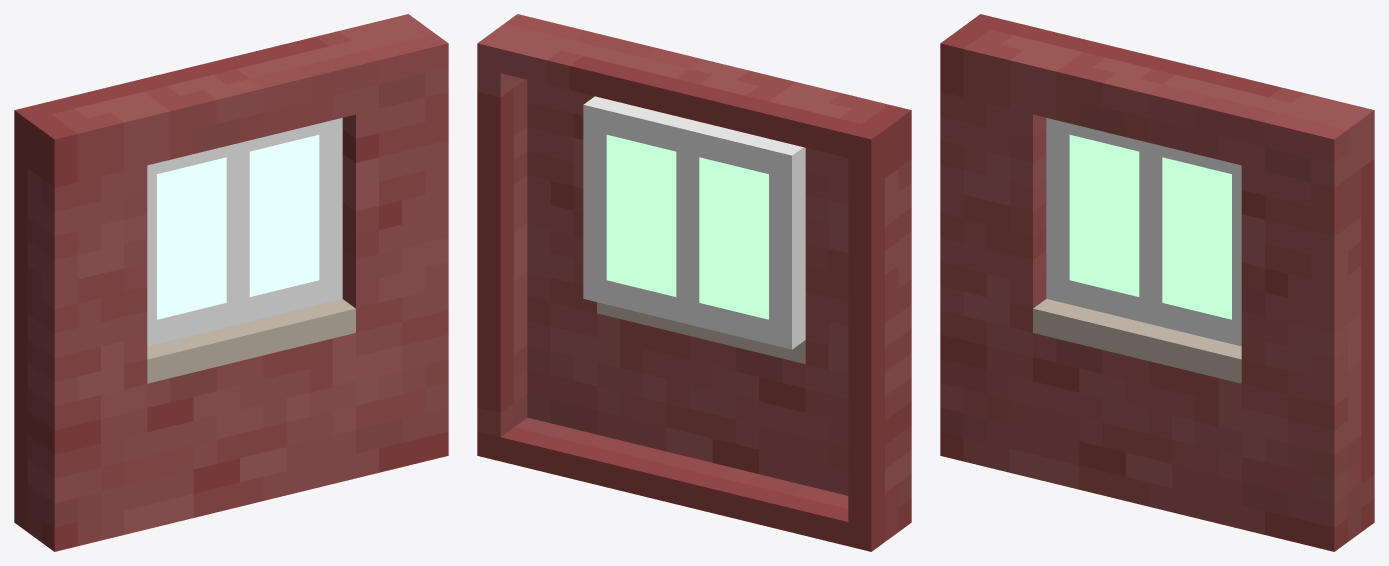
Rendered from palazzo7.glb.
3 views of the same model, side by side, from view 1: azimuth 30°, elevation 25°; view 2: azimuth 150°, elevation 25°; view 3: azimuth 330°, elevation 25° (orthographic).
Parts seen in each view (by area): view 1: Finestra.Piccola.Verticale; view 2: Finestra.Piccola.Verticale; view 3: Finestra.Piccola.Verticale.
Part boxes in pixels (x1=…): Finestra.Piccola.Verticale: x1=14, y1=14, x2=448, y2=551; Finestra.Piccola.Verticale: x1=477, y1=14, x2=911, y2=551; Finestra.Piccola.Verticale: x1=940, y1=14, x2=1374, y2=551.
Size of the model in its own units: 17 by 17 by 3.
2 materials, 2 textured.
